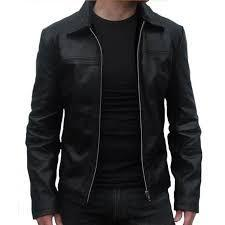jacket: (19, 3, 206, 220)
